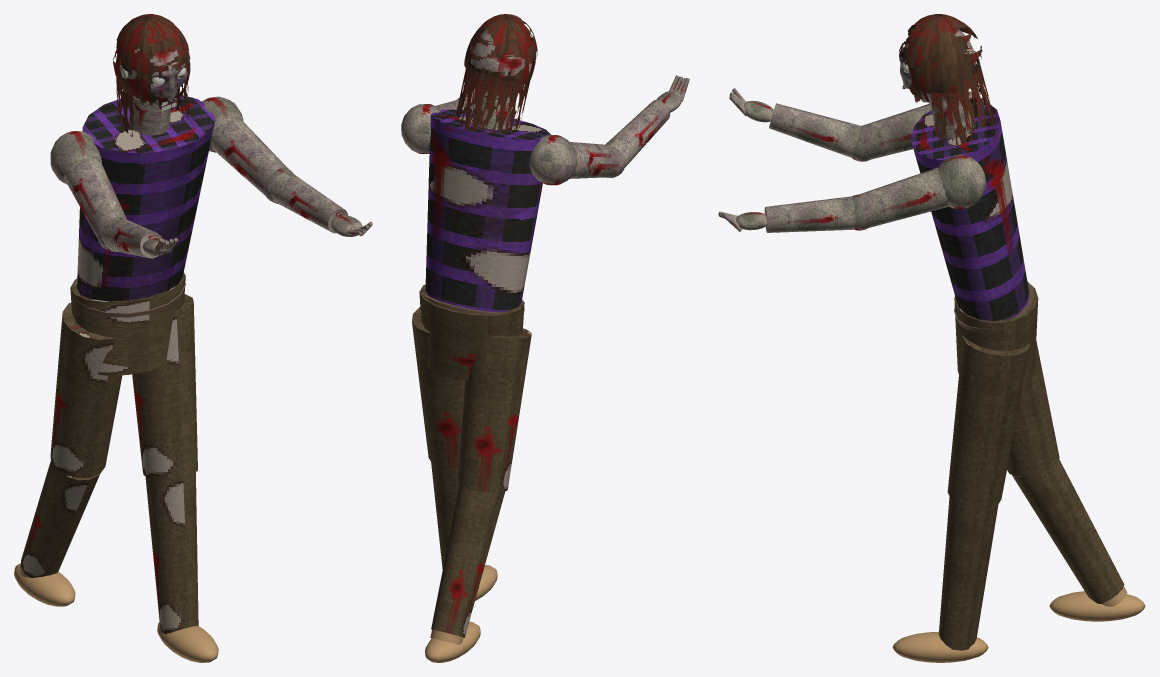
File: Zombie_136.glb
The picture shows the model from 3 angles, left to right: view 1: azimuth 30°, elevation 25°; view 2: azimuth 150°, elevation 25°; view 3: azimuth 270°, elevation 25°; orthographic projection. The views are drawn at different scales.
Visible parts, largest first — view 1: Zombie_136, object 43, object 10, object 44, object 3, object 16; view 2: Zombie_136, object 3, object 44, object 43, object 16, object 50, object 49, object 51, object 52, object 53; view 3: Zombie_136, object 10, object 3, object 44, object 43, object 46, object 45.
Boxes of the visible parts, x1,y1,x2,y2 form: Zombie_136: (14, 95, 288, 662); object 43: (115, 14, 190, 76); object 10: (270, 172, 348, 233); object 44: (113, 17, 190, 105); object 3: (101, 217, 161, 258); object 16: (120, 22, 187, 106); Zombie_136: (401, 94, 620, 662); object 3: (605, 100, 670, 167); object 44: (464, 17, 535, 100); object 43: (470, 14, 537, 75); object 16: (471, 29, 532, 96); object 50: (466, 69, 496, 131); object 49: (460, 66, 481, 130); object 51: (478, 75, 510, 132); object 52: (492, 77, 517, 132); object 53: (505, 78, 523, 132); Zombie_136: (859, 90, 1145, 662); object 10: (764, 196, 855, 232); object 3: (769, 103, 860, 157); object 44: (903, 21, 982, 101); object 43: (899, 14, 981, 67); object 46: (945, 82, 972, 145); object 45: (930, 87, 954, 141).
Bounding box in the file's own units: 0.635 × 1.86 × 1.15.
Materials: 16 (6 with a texture image).
